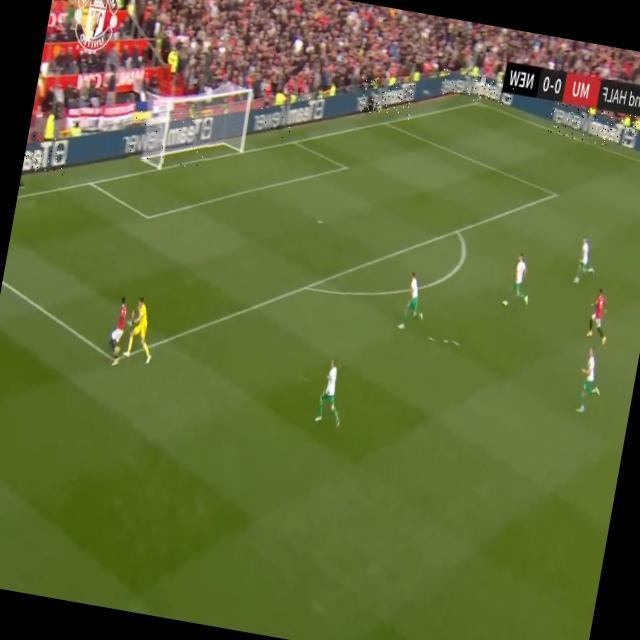TeamViewer: (120, 103, 212, 171), (547, 102, 639, 150), (252, 86, 325, 144), (439, 69, 514, 107), (355, 73, 415, 120), (22, 134, 70, 178)
